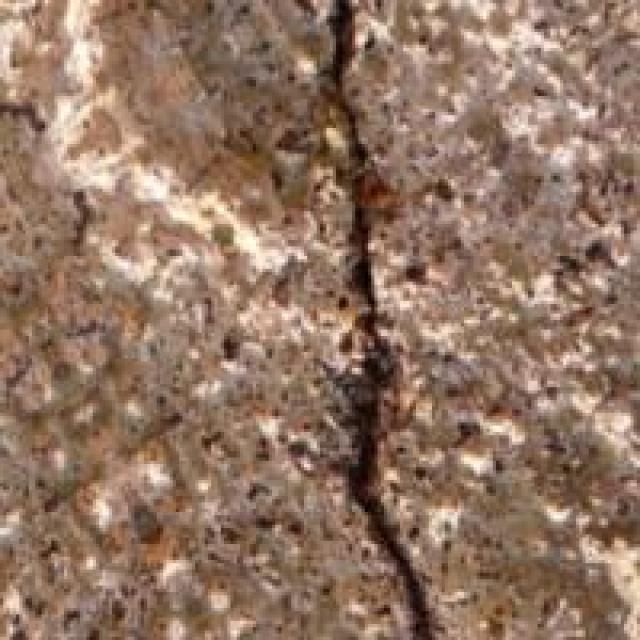Crack: (294, 0, 560, 637)
